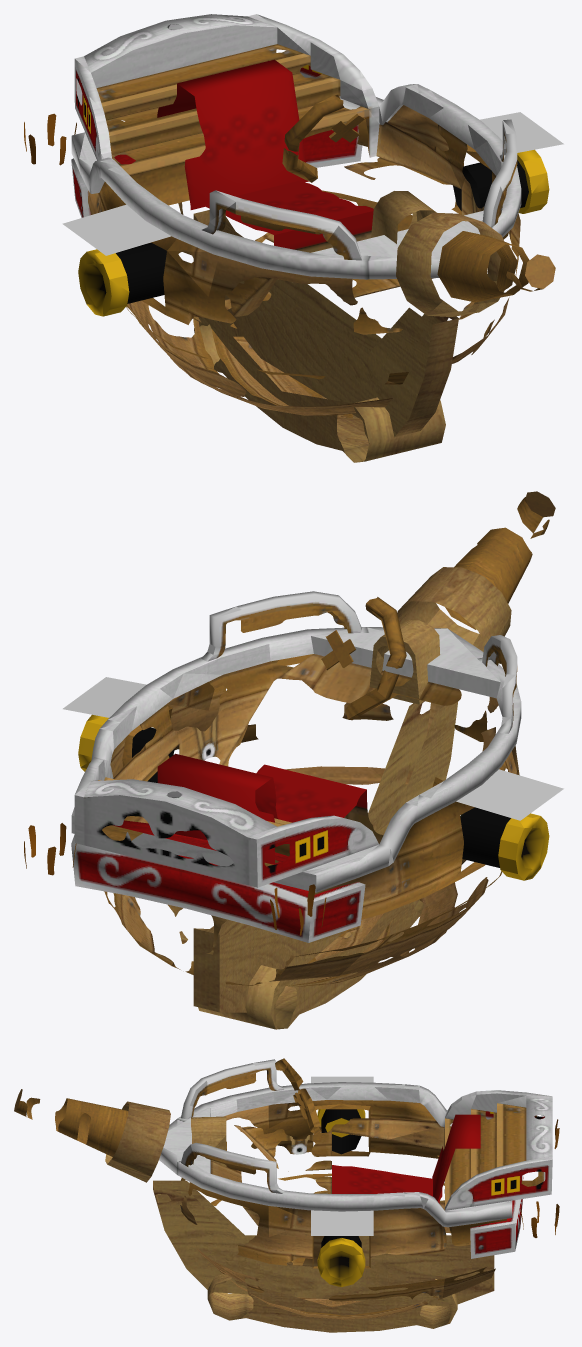
File: Landship.obj
3 renders of one model, top to bottom at view 1: azimuth 30°, elevation 25°; view 2: azimuth 150°, elevation 25°; view 3: azimuth 270°, elevation 25°, orthographic. The views are drawn at different scales.
Parts seen in each view (by area): view 1: BodyK_Shp__m_Body, Jnt_parts02__m_Body, BodyK_Shp__m_Body_Layer_3, Jnt_parts01__m_Body; view 2: BodyK_Shp__m_Body, Jnt_parts02__m_Body, BodyK_Shp__m_Body_Layer_3, Jnt_parts01__m_Body; view 3: BodyK_Shp__m_Body, Jnt_parts01__m_Body, BodyK_Shp__m_Body_Layer_3, Jnt_parts02__m_Body.
Part boxes in pixels (x1,y1,x2,y2): BodyK_Shp__m_Body: [24, 14, 555, 462]; Jnt_parts02__m_Body: [78, 242, 166, 316]; BodyK_Shp__m_Body_Layer_3: [62, 112, 563, 255]; Jnt_parts01__m_Body: [453, 149, 549, 213]; BodyK_Shp__m_Body: [24, 491, 555, 1029]; Jnt_parts02__m_Body: [460, 807, 549, 880]; BodyK_Shp__m_Body_Layer_3: [63, 677, 563, 820]; Jnt_parts01__m_Body: [78, 714, 174, 782]; BodyK_Shp__m_Body: [14, 1058, 559, 1332]; Jnt_parts01__m_Body: [317, 1236, 365, 1286]; BodyK_Shp__m_Body_Layer_3: [311, 1076, 373, 1235]; Jnt_parts02__m_Body: [317, 1109, 365, 1154].
Size of the model in its own units: 1.76 by 1.27 by 2.49.
